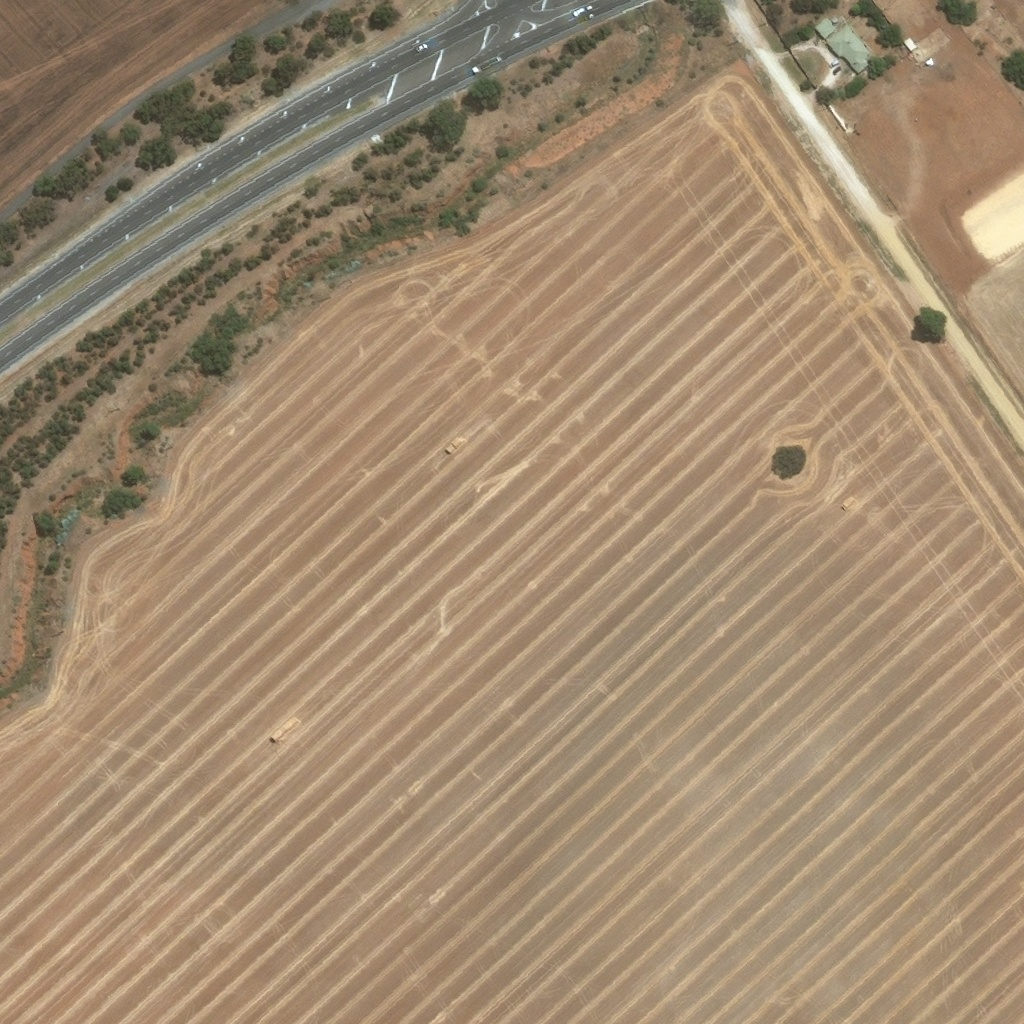0 no-damage: (824, 27, 876, 76), (812, 14, 840, 40), (903, 37, 916, 51)
